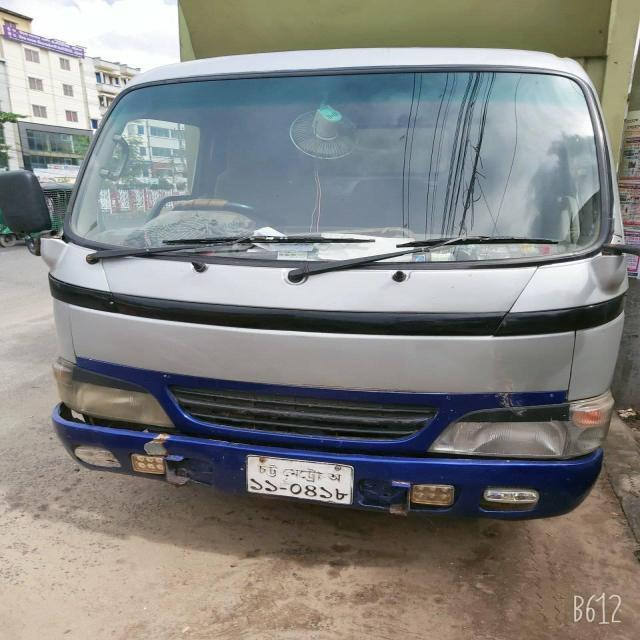numberplate: (244, 454, 354, 505)
